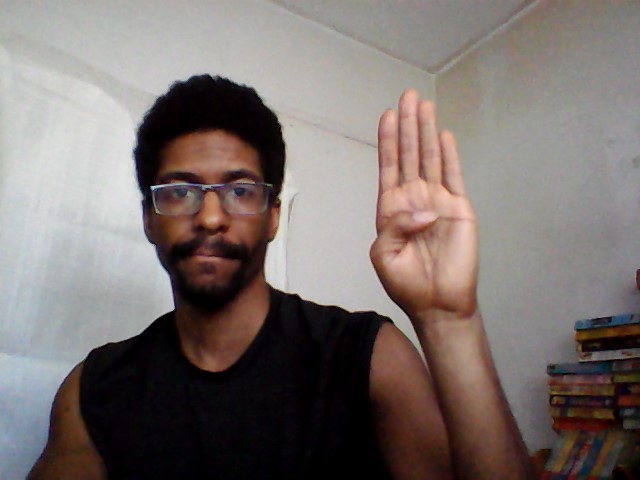b: (365, 83, 485, 314)
